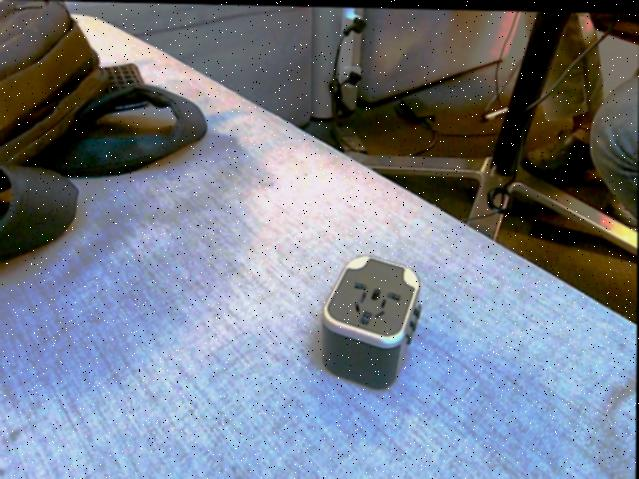adapter: (321, 252, 424, 389)
